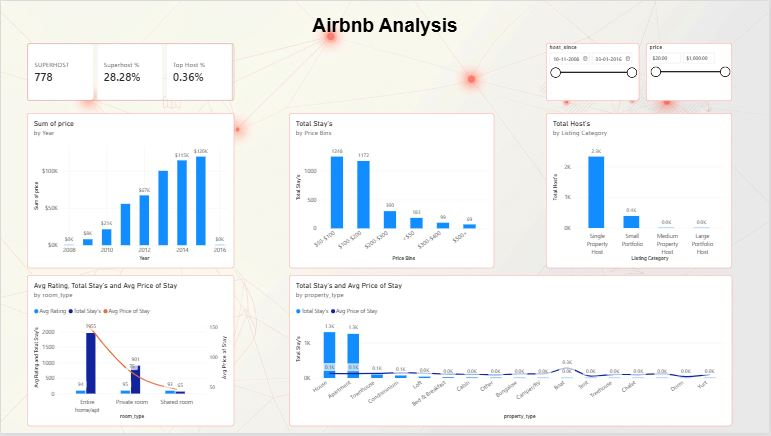

The dashboard page shown, as its layout file describes it:
{"tool":"powerbi","page":{"name":"Insights","canvas":[1920,1080],"ordinal":1},"visuals":[{"type":"image","box":[0,0,1920,1080],"z":0},{"type":"clusteredColumnChart","fields":{"Category":["listings.host_since.Variation.Date Hierarchy.Year"],"Y":["Sum(listings.price)"]},"box":[65,280,517.5,387.5],"z":1},{"type":"cardVisual","fields":{"Data":["Measures_Own.SUPERHOST","Measures_Own.Superhost %","Measures_Own.Top Host %"]},"box":[65,105,517.5,145],"z":2},{"type":"clusteredColumnChart","fields":{"Category":["listings.Price Bins"],"Y":["Measures_Own.Total Stay's"]},"box":[720,280,512.5,387.5],"z":3},{"type":"clusteredColumnChart","fields":{"Category":["listings.Listing Category"],"Y":["Measures_Own.Total Host's"]},"box":[1362.5,280,465,387.5],"z":4},{"type":"lineClusteredColumnComboChart","fields":{"Category":["listings.room_type"],"Y":["Measures_Own.Avg Rating","Measures_Own.Total Stay's"],"Y2":["Measures_Own.Avg Price of Stay"]},"box":[65,685,517.5,377.5],"z":5},{"type":"lineClusteredColumnComboChart","fields":{"Category":["listings.property_type"],"Y":["Measures_Own.Total Stay's"],"Y2":["Measures_Own.Avg Price of Stay"]},"box":[720,685,1107.5,377.5],"z":6},{"type":"textbox","box":[772.5,32.5,375,95],"z":7},{"type":"slicer","fields":{"Values":["listings.price"]},"box":[1612.5,105,215,145],"z":8},{"type":"slicer","fields":{"Values":["listings.host_since"]},"box":[1362.5,105,232.5,145],"z":9}]}

Visuals, with their boxes in screenshot pixels (x1, y1, x2, y2), scaled from the page's 1920x1080 canvas onto the 771x436 screenshot:
image: x1=0 y1=0 x2=770 y2=435
clusteredColumnChart - listings.host_since.Variation.Date Hierarchy.Year x Sum(listings.price): x1=26 y1=113 x2=234 y2=269
cardVisual - Measures_Own.SUPERHOST x Measures_Own.Superhost %: x1=26 y1=42 x2=234 y2=101
clusteredColumnChart - listings.Price Bins x Measures_Own.Total Stay's: x1=289 y1=113 x2=495 y2=269
clusteredColumnChart - listings.Listing Category x Measures_Own.Total Host's: x1=547 y1=113 x2=734 y2=269
lineClusteredColumnComboChart - listings.room_type x Measures_Own.Avg Rating: x1=26 y1=277 x2=234 y2=429
lineClusteredColumnComboChart - listings.property_type x Measures_Own.Total Stay's: x1=289 y1=277 x2=734 y2=429
textbox: x1=310 y1=13 x2=461 y2=51
slicer - listings.price: x1=648 y1=42 x2=734 y2=101
slicer - listings.host_since: x1=547 y1=42 x2=640 y2=101
